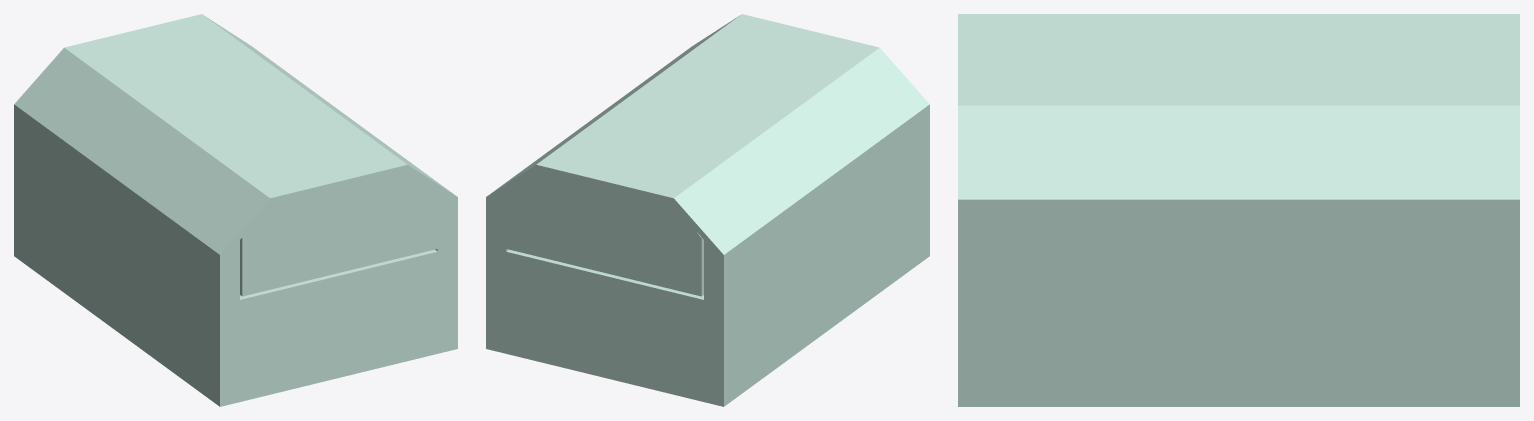
3 views of the same model, side by side, from view 1: azimuth 30°, elevation 25°; view 2: azimuth 150°, elevation 25°; view 3: azimuth 270°, elevation 25° (orthographic). The views are drawn at different scales.
Visible parts, largest first — view 1: Renderer Node; view 2: Renderer Node; view 3: Renderer Node.
Boxes of the visible parts, x1,y1,x2,y2 form: Renderer Node: (14, 14, 457, 406); Renderer Node: (486, 14, 929, 406); Renderer Node: (958, 14, 1519, 406).
Bounding box in the file's own units: 0.5 × 0.3947 × 0.75.
